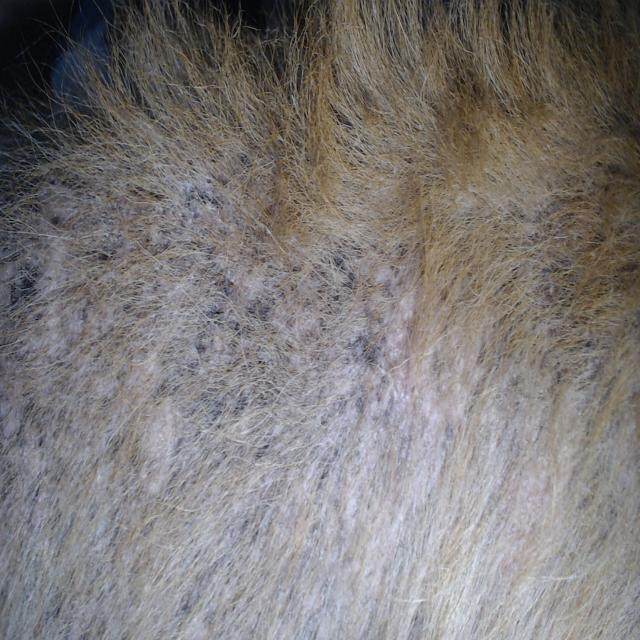demodicosis: (53, 195, 417, 550)
